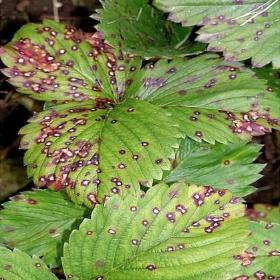Leaf Spot: (61, 181, 252, 279), (18, 97, 183, 208), (122, 53, 279, 145), (0, 18, 119, 110), (151, 0, 279, 70), (0, 187, 95, 269), (88, 0, 209, 59), (161, 137, 269, 203), (86, 34, 144, 102), (229, 203, 279, 279), (0, 246, 59, 279)
